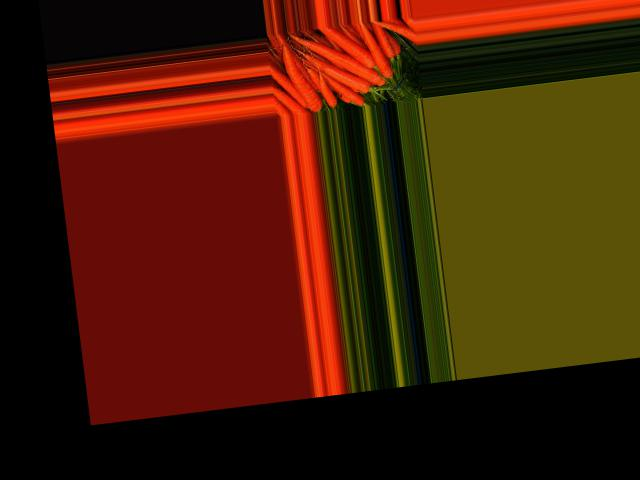carrot: (318, 20, 375, 73)
